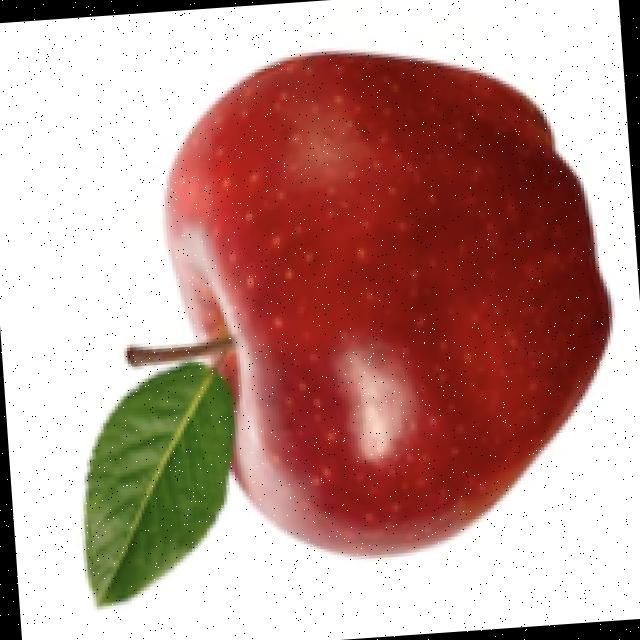apple: (76, 46, 616, 615)
